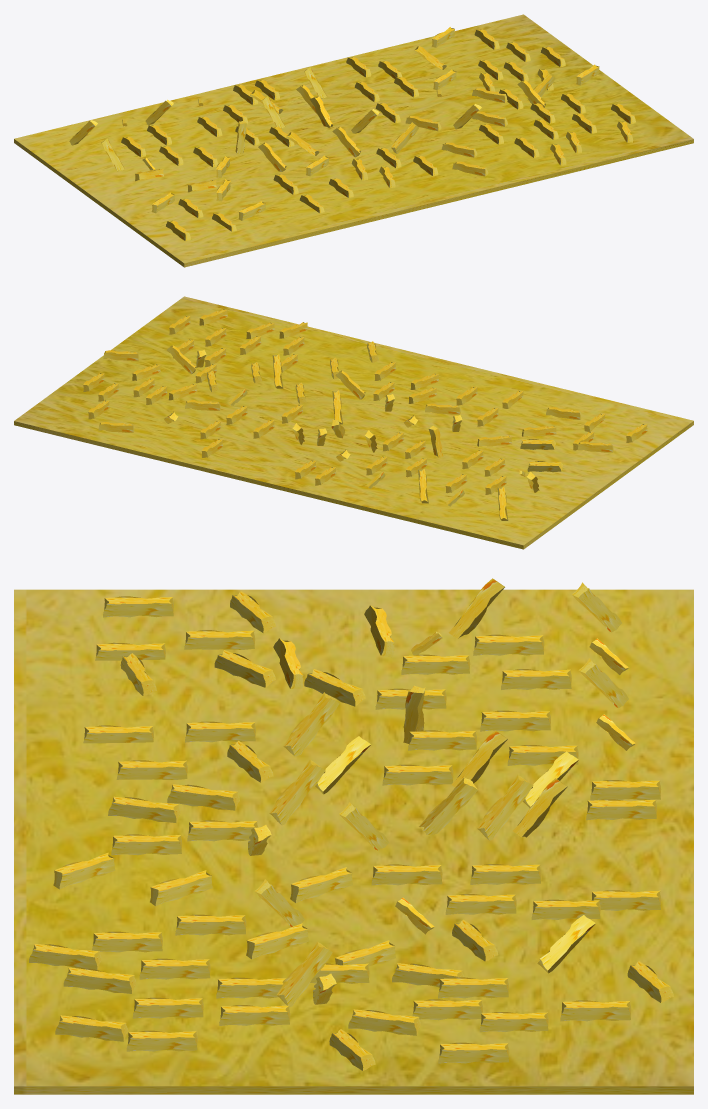
Rendered from cheese_hoopje_alt.glb.
3 views of the same model, one above another, from view 1: azimuth 30°, elevation 25°; view 2: azimuth 150°, elevation 25°; view 3: azimuth 270°, elevation 25° (orthographic). The views are drawn at different scales.
Visible parts, largest first — view 1: Cube.2186; view 2: Cube.2186; view 3: Cube.2186, Cube.1581, Cube.014, Cube.030, Cube.028, Cube.018, Cube.044, Cube.1913, Cube.1880, Cube.1876, Cube.1637, Cube.003 (+63 smaller).
Part boxes in pixels (bbox=[...]): Cube.2186: bbox=[14, 14, 693, 267]; Cube.2186: bbox=[14, 296, 693, 549]; Cube.2186: bbox=[14, 589, 693, 1094]; Cube.1581: bbox=[269, 759, 325, 825]; Cube.014: bbox=[477, 774, 532, 840]; Cube.030: bbox=[126, 1030, 197, 1051]; Cube.028: bbox=[132, 997, 203, 1018]; Cube.018: bbox=[103, 596, 173, 617]; Cube.044: bbox=[438, 977, 508, 998]; Cube.1913: bbox=[473, 634, 544, 655]; Cube.1880: bbox=[175, 914, 246, 935]; Cube.1876: bbox=[185, 721, 255, 742]; Cube.1637: bbox=[371, 864, 442, 885]; Cube.003: bbox=[382, 764, 453, 785].
Size of the model in its own units: 0.6351 by 0.0446 by 0.3675.
Materials: 52 (52 with a texture image).
